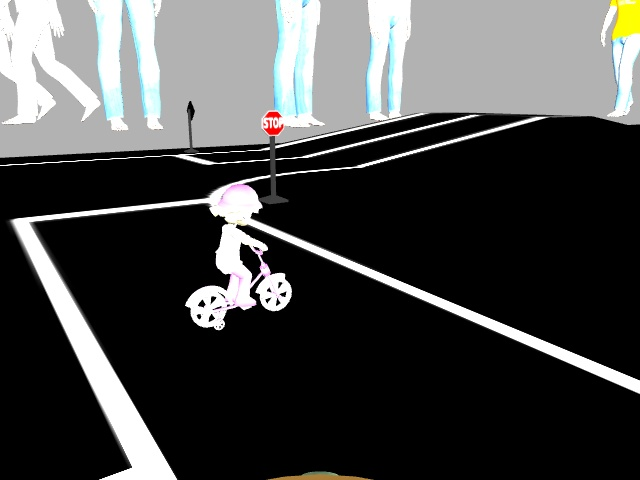Pedestrian: (185, 184, 296, 331)
Stop: (259, 107, 285, 140)
